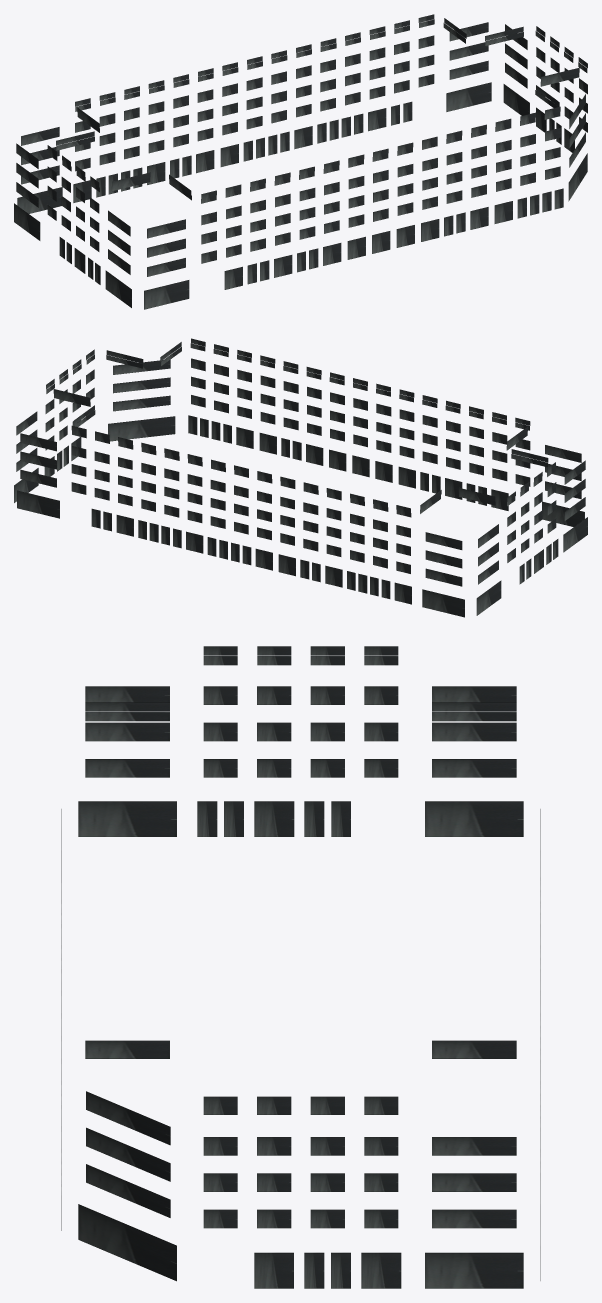
File: TRANS_Building_5stores_CommericalAndHouse.obj
The picture shows the model from 3 angles, top to bottom: view 1: azimuth 30°, elevation 25°; view 2: azimuth 150°, elevation 25°; view 3: azimuth 270°, elevation 25°; orthographic projection. The views are drawn at different scales.
Visible parts, largest first — view 1: TRANS_Building_5stores_CommericalAndHouse; view 2: TRANS_Building_5stores_CommericalAndHouse; view 3: TRANS_Building_5stores_CommericalAndHouse.
Part boxes in pixels (left/top/right/bottom): TRANS_Building_5stores_CommericalAndHouse: left=14, top=14, right=587, bottom=309; TRANS_Building_5stores_CommericalAndHouse: left=14, top=338, right=587, bottom=617; TRANS_Building_5stores_CommericalAndHouse: left=61, top=646, right=540, bottom=1288.
Size of the model in its own units: 26.19 by 5.17 by 11.75.
